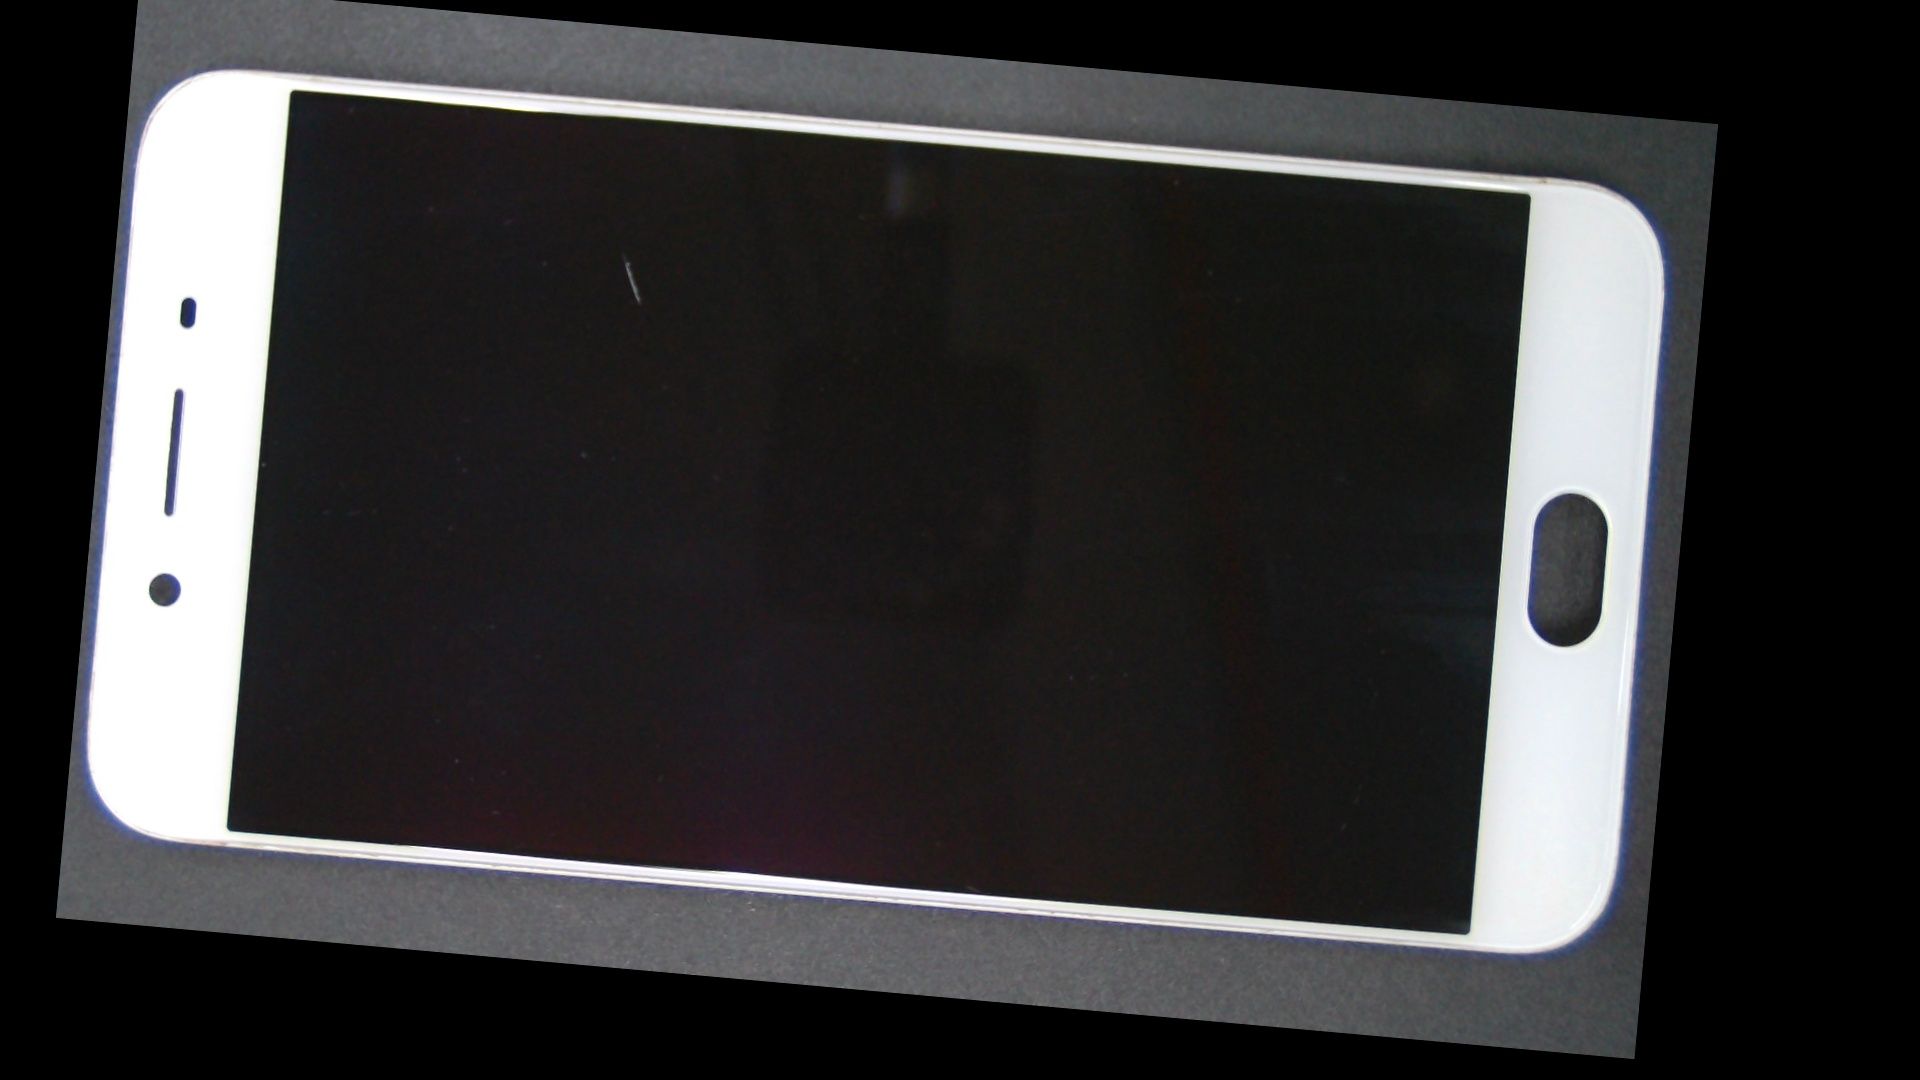oil: (360, 120, 885, 397)
